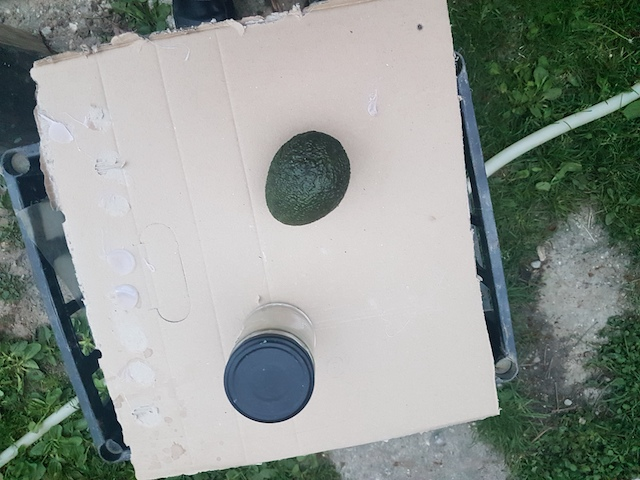avocado: (265, 131, 352, 229)
recipient: (223, 339, 315, 426)
